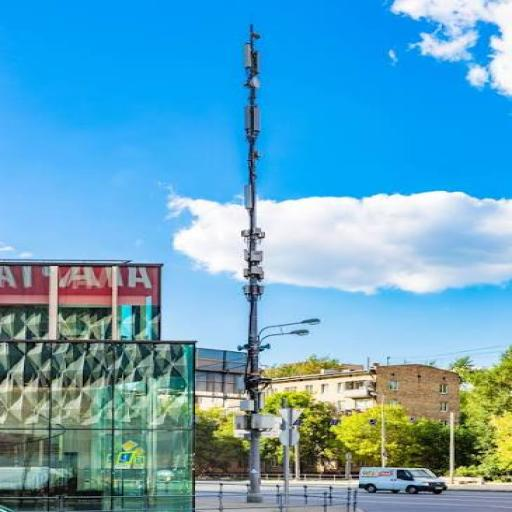odn_pole: (232, 24, 322, 504)
